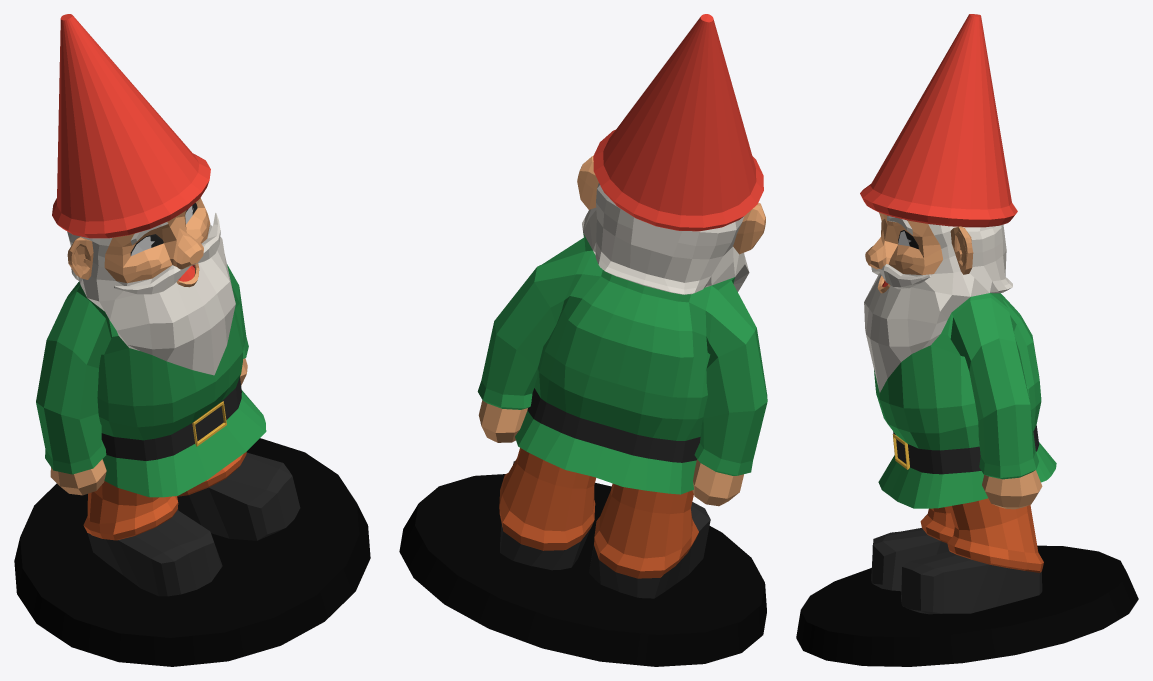
File: Gnome_Animation 1.fbx
3 renders of one model, left to right at view 1: azimuth 30°, elevation 25°; view 2: azimuth 150°, elevation 25°; view 3: azimuth 270°, elevation 25°, orthographic. The views are drawn at different scales.
Parts seen in each view (by area): view 1: Gnome_Witness; view 2: Gnome_Witness; view 3: Gnome_Witness.
Part boxes in pixels (left/top/right/bottom): Gnome_Witness: left=14, top=14, right=370, bottom=666; Gnome_Witness: left=399, top=14, right=767, bottom=666; Gnome_Witness: left=796, top=14, right=1138, bottom=666.
Bounding box in the file's own units: 40.5 × 74.35 × 39.7.
